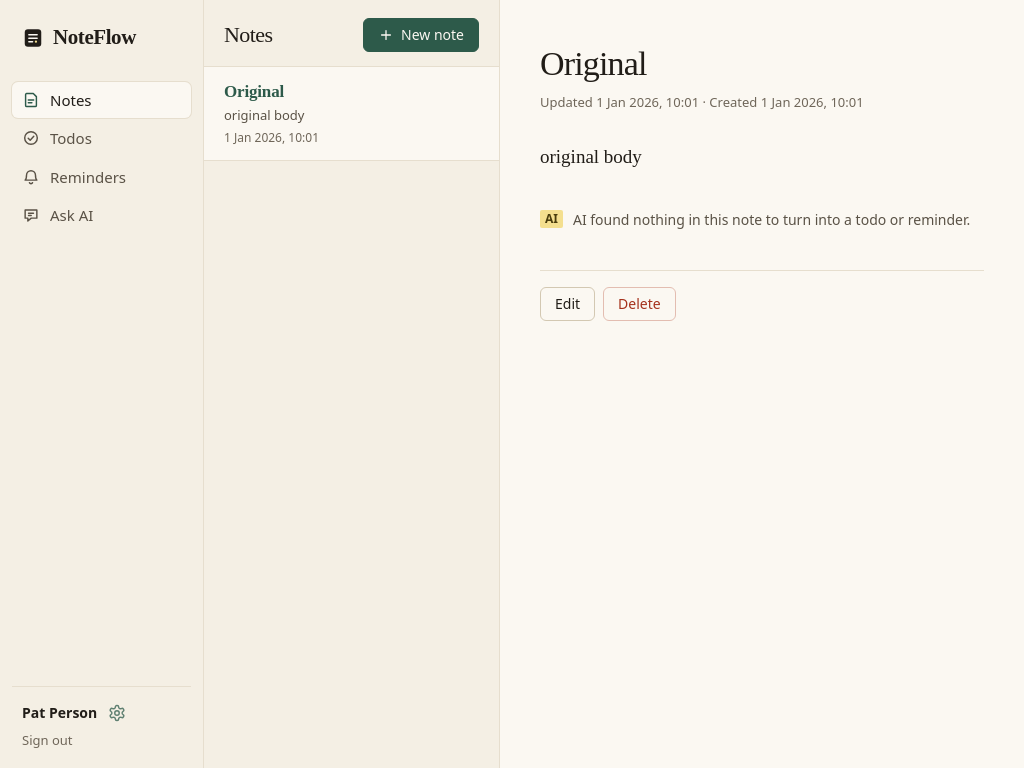
Test: edit › saves changes with a PATCH and shows the updated note and list
Step 1. Click the button "Edit" → (568, 304), box [540,287,595,321]
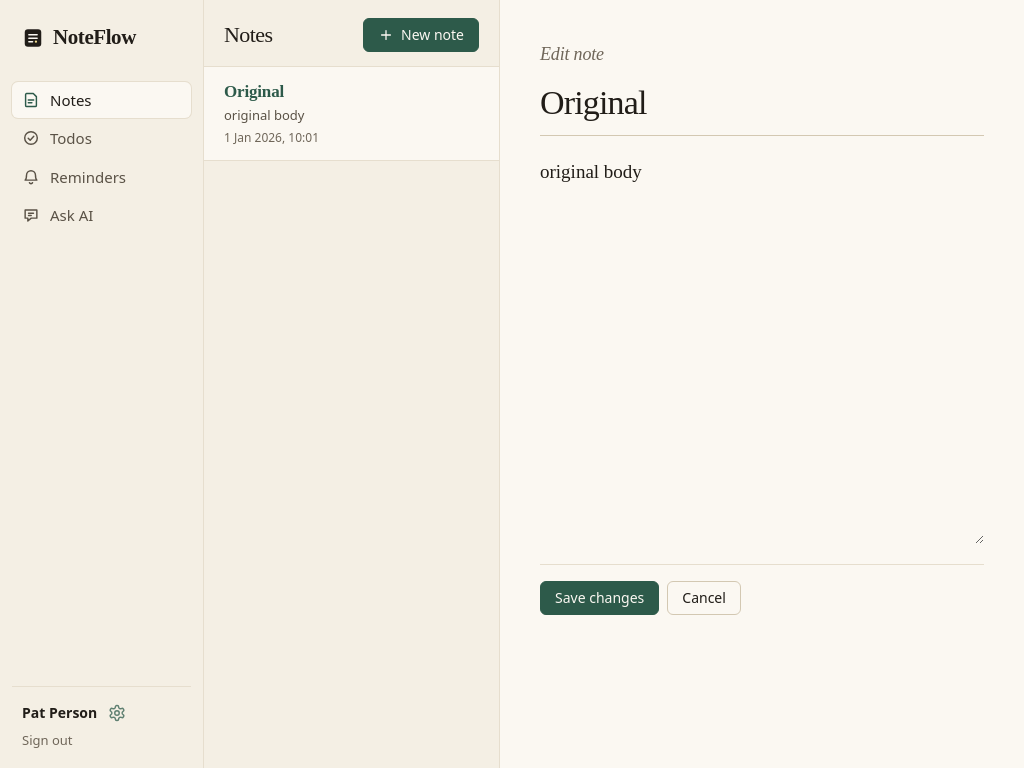
Step 2. Replace the text in the field named "title" with "Renamed" → (762, 110), box [540,83,984,136]
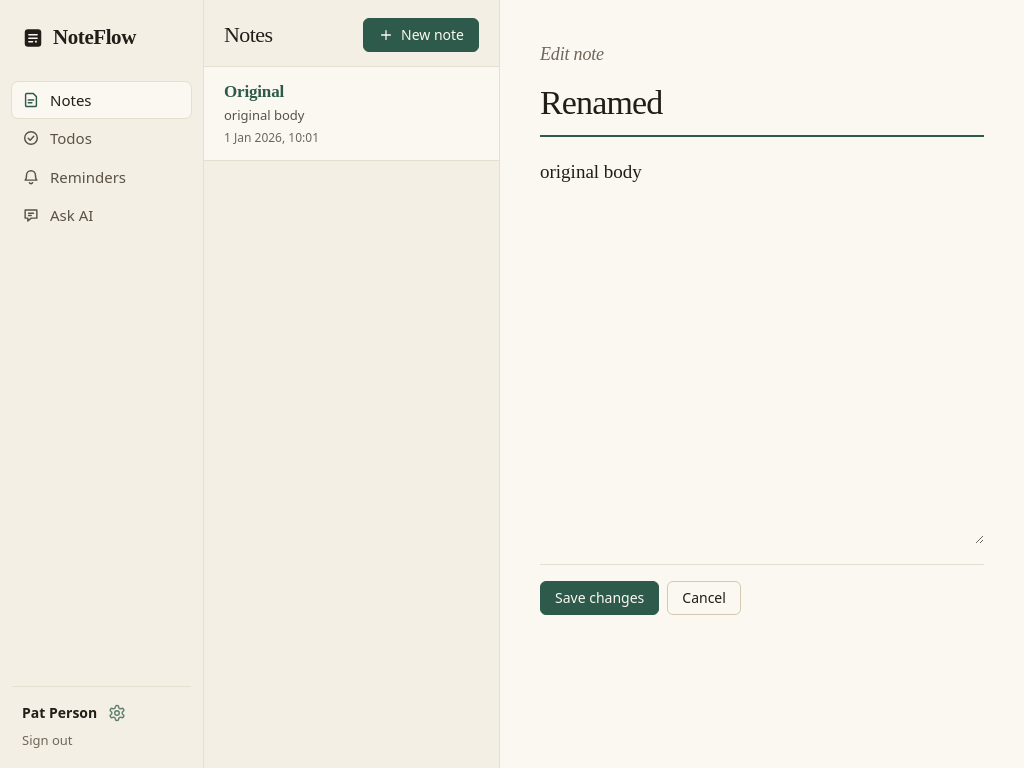
Step 3. Click the button "Save changes" → (600, 598), box [540,581,659,615]
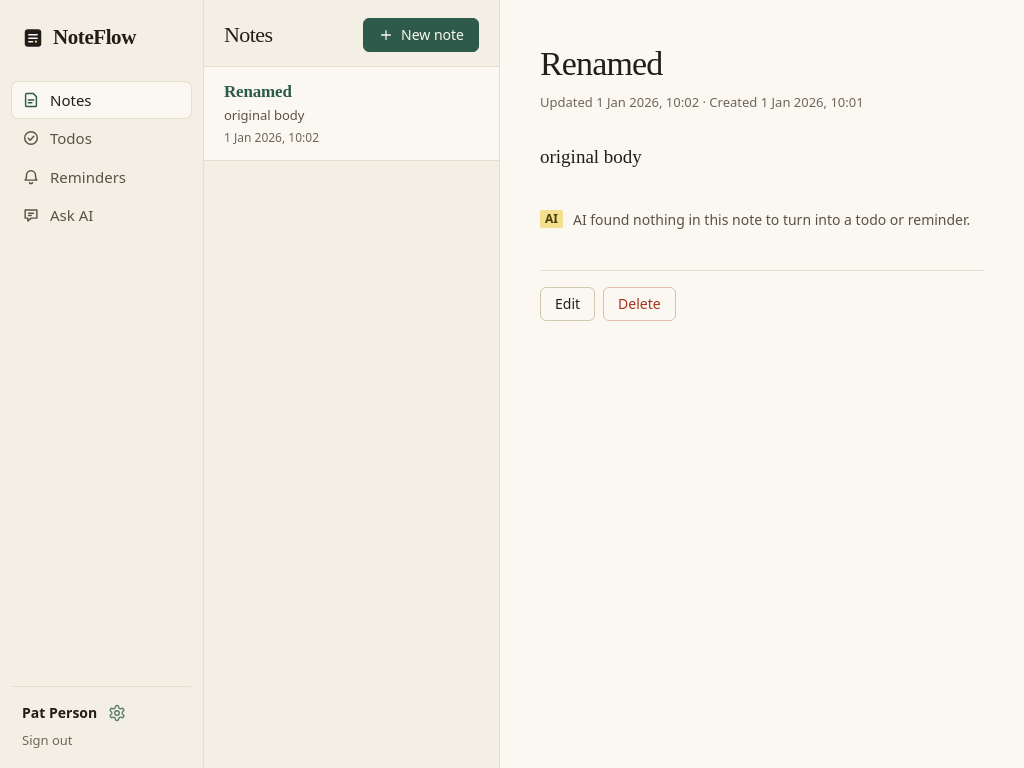
Check: the heading "Renamed" is shown, box [540,45,662,82]
Check: the text "Renamed" is shown, box [224,82,292,101]
